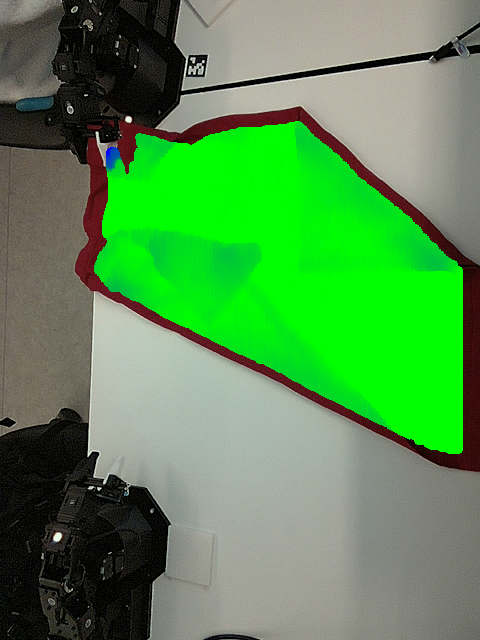V: (288, 225, 334, 284), (181, 287, 235, 328)
